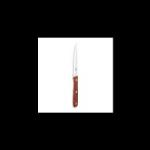Pisau: (71, 40, 81, 108)
